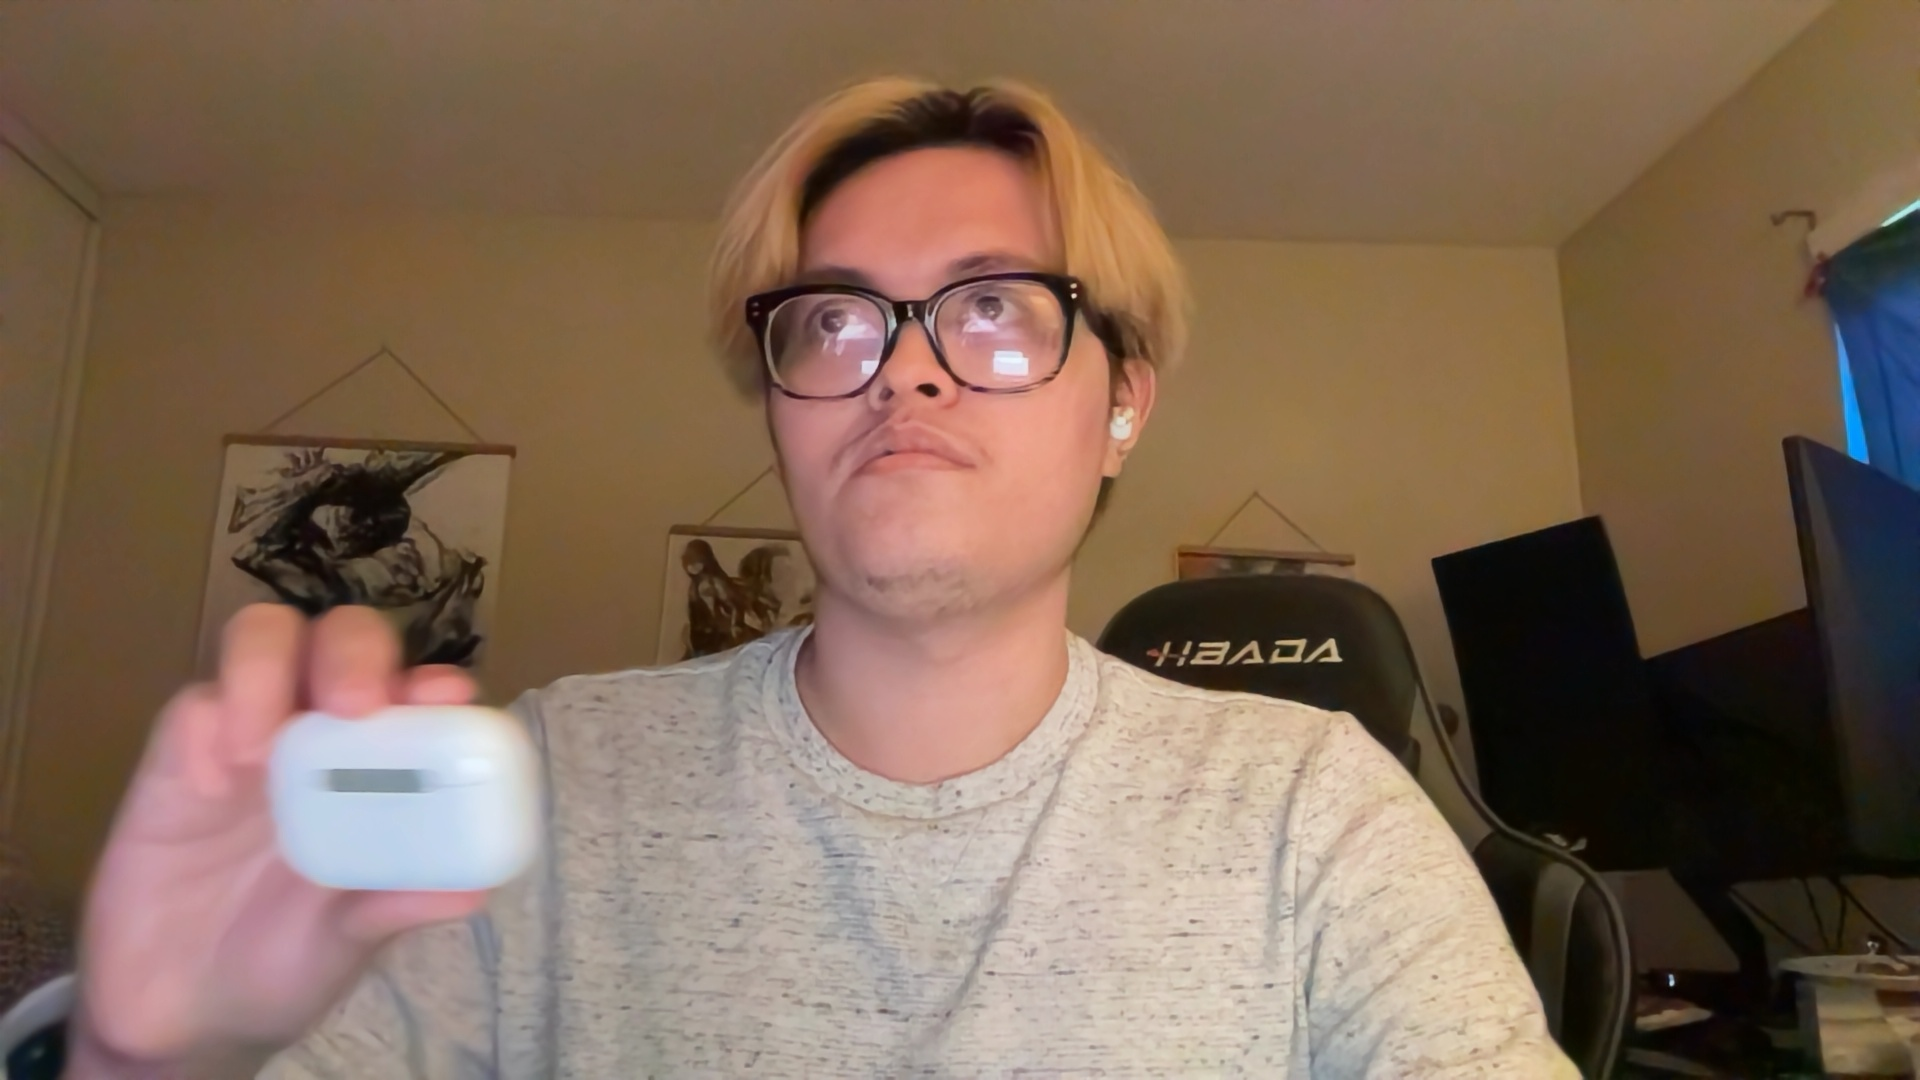airpods: (256, 694, 550, 891)
